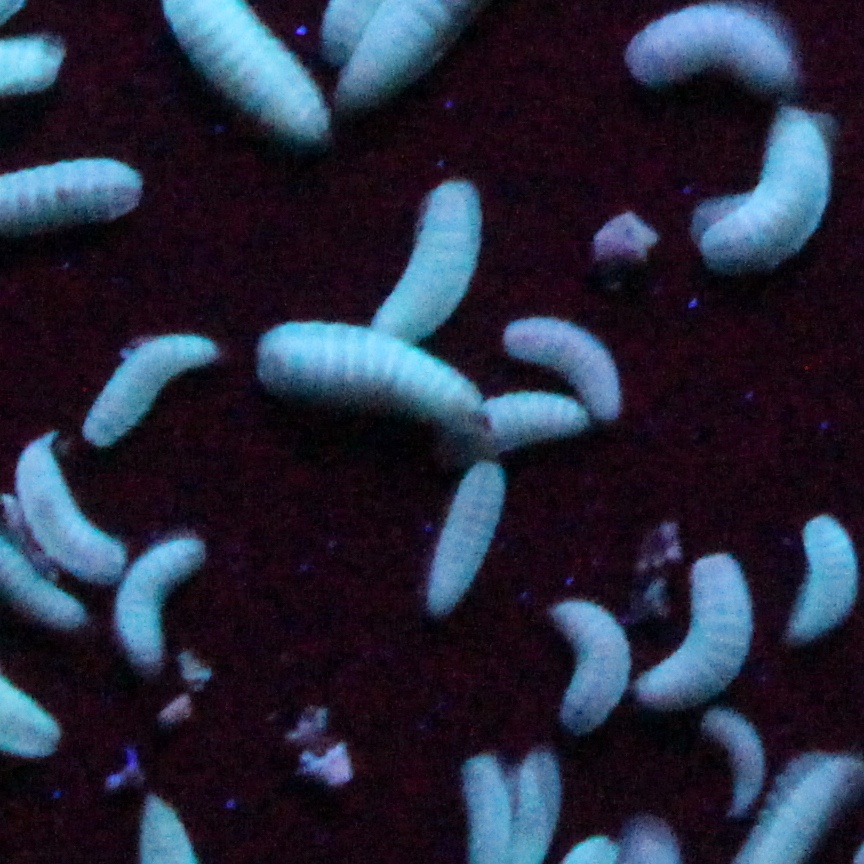larve: (252, 328, 486, 441), (706, 108, 826, 274), (646, 548, 752, 714), (12, 437, 126, 584), (375, 182, 472, 328), (77, 344, 219, 442), (499, 320, 626, 417), (559, 601, 639, 754), (430, 457, 503, 617), (119, 537, 203, 671), (712, 715, 761, 813)
